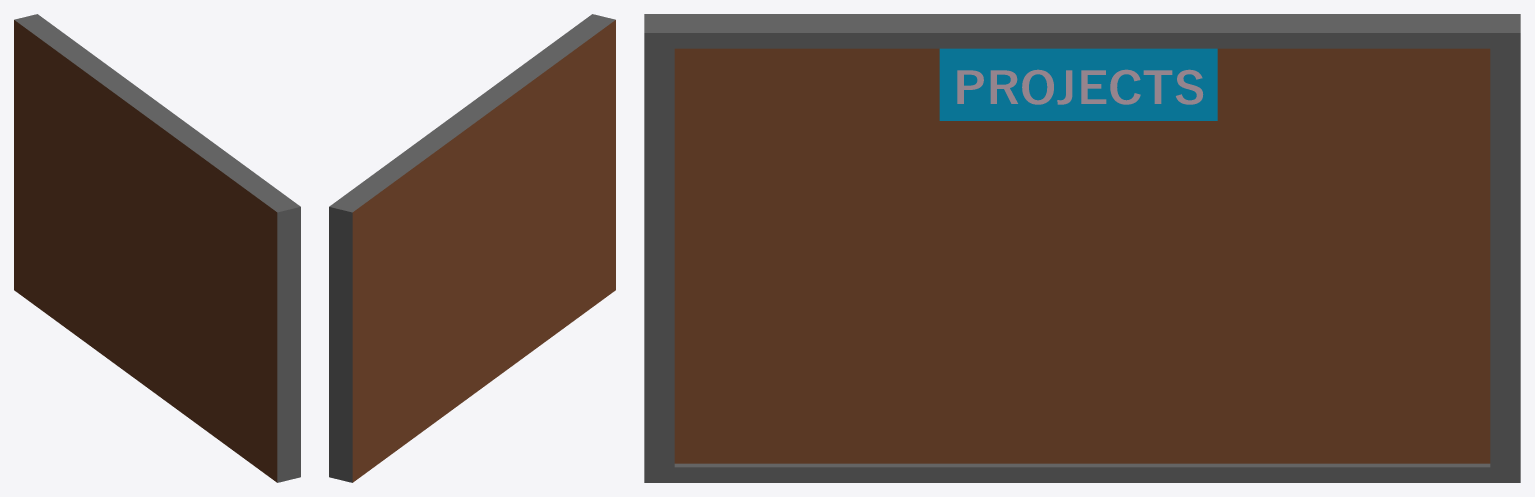
The model's file is projects.glb.
3 renders of one model, left to right at view 1: azimuth 30°, elevation 25°; view 2: azimuth 150°, elevation 25°; view 3: azimuth 270°, elevation 25°, orthographic. The views are drawn at different scales.
Parts seen in each view (by area): view 1: Cube; view 2: Cube; view 3: Cube, s.
Part boxes in pixels (box(x1,y1,x2,y2)): Cube: box(14, 14, 300, 482); Cube: box(329, 14, 615, 482); Cube: box(644, 14, 1520, 482); s: box(957, 69, 1203, 104).
Size of the model in its own units: 0.2963 by 3.26 by 5.75.
